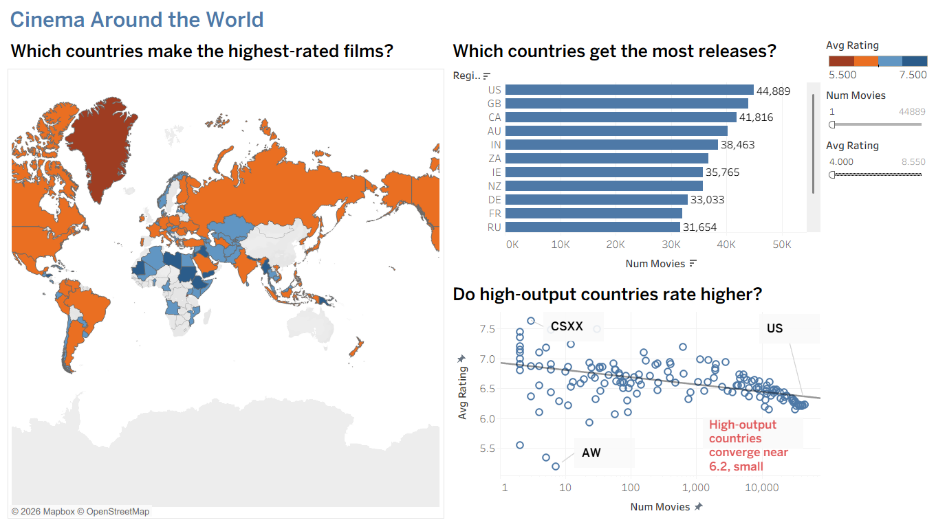

The page's visual inventory and layout, read from the dashboard file:
{"tool":"tableau","page":{"name":"Cinema Around the World","canvas":[1366,768],"ordinal":1},"visuals":[{"type":"title","box":[8,8,1350,44]},{"type":"worksheet","title":"World Map","mark":"Multipolygon","box":[8,52,643,708]},{"type":"worksheet","title":"Top Regions","mark":"Automatic","rows":["region"],"cols":["num_movies"],"box":[651,52,547,354]},{"type":"legend","title":"World Map","param":"[federated.15xnqbj0kjakoa13k1im90hyloil].[avg:avg_rating:qk]","box":[1198,52,160,73]},{"type":"filter","title":"Top Regions","param":"[federated.15xnqbj0kjakoa13k1im90hyloil].[none:num_movies:qk]","box":[1198,125,160,73]},{"type":"filter","title":"Top Regions","param":"[federated.15xnqbj0kjakoa13k1im90hyloil].[none:avg_rating:qk]","box":[1198,198,160,73]},{"type":"worksheet","title":"Reach vs Rating","mark":"Automatic","rows":["avg_rating"],"cols":["num_movies"],"box":[651,406,547,354]}]}

Visuals, with their boxes in screenshot pixels (x1, y1, x2, y2), scaled from the page's 1366x768 canvas onto the 936x520 screenshot:
title: l=5, t=5, r=931, b=35
"World Map" worksheet (Multipolygon marks): l=5, t=35, r=446, b=515
"Top Regions" worksheet: l=446, t=35, r=821, b=275
"World Map" legend: l=821, t=35, r=931, b=85
"Top Regions" filter: l=821, t=85, r=931, b=134
"Top Regions" filter: l=821, t=134, r=931, b=183
"Reach vs Rating" worksheet: l=446, t=275, r=821, b=515
